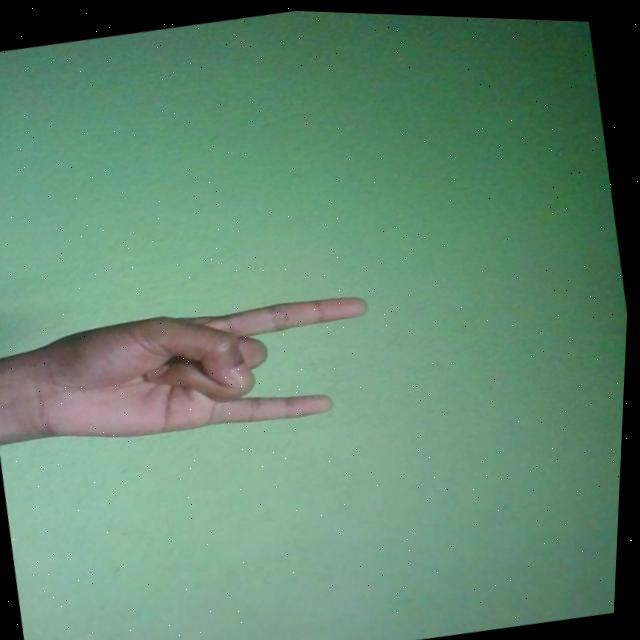Rock On: (14, 274, 389, 465)
